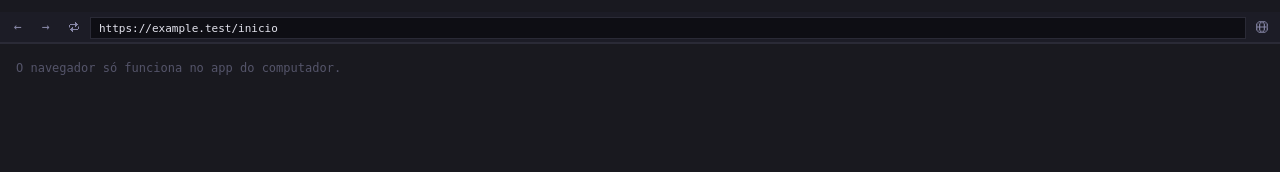
Test: descarta edição incompleta ao sair do campo e abre o endereço atual fora
This screenshot has width=1280, height=172.
Step 1. Replace the text in the field named "Endereço" with "rascunho" → (668, 28), box [90, 17, 1246, 39]
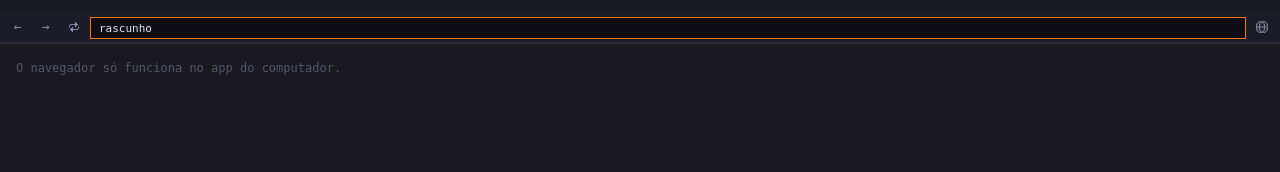
Step 2. Click the button named "Abrir no navegador do Mac" → click(1262, 27), box [1250, 15, 1274, 39]
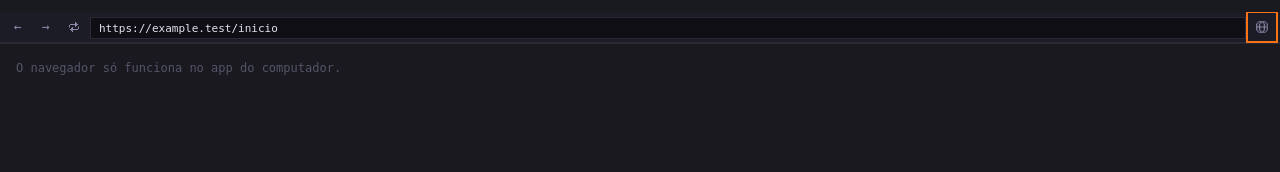
Now the field named "Endereço" holds "https://example.test/inicio", box [90, 17, 1246, 39]
